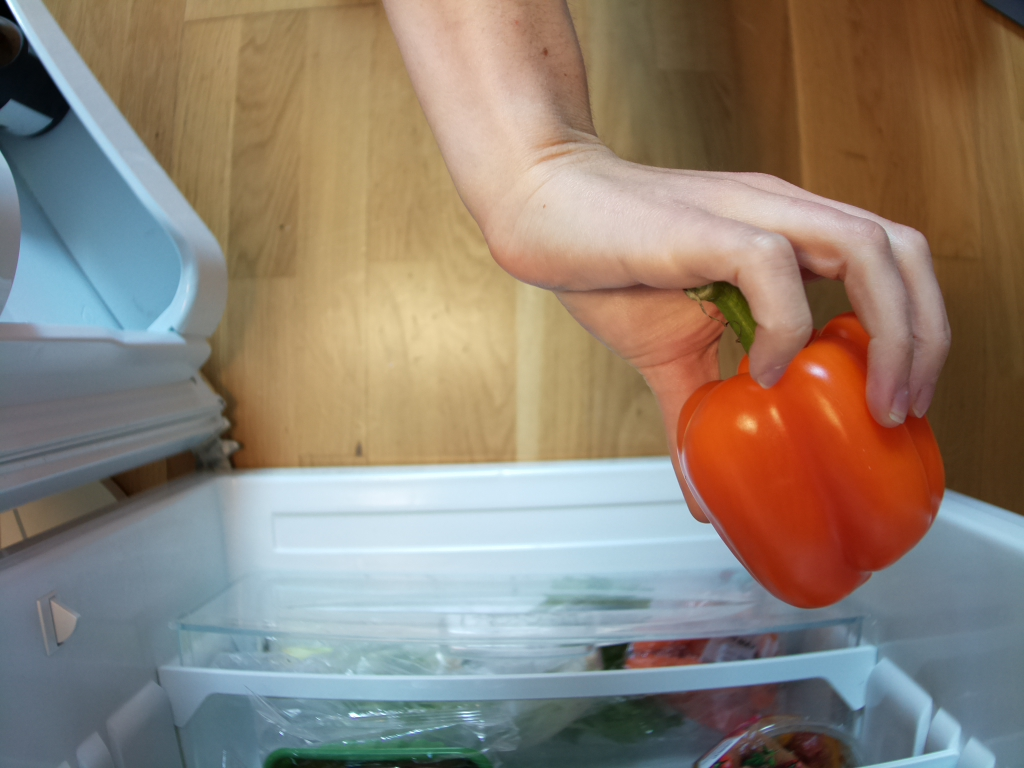pepper: (676, 278, 946, 607)
